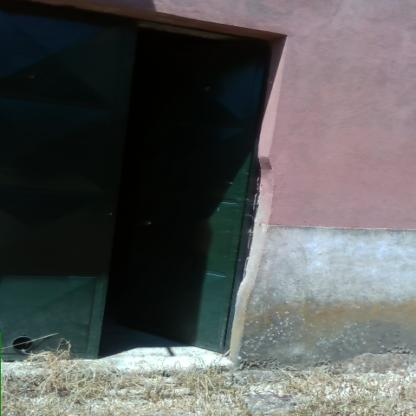semi: (0, 0, 285, 373)
